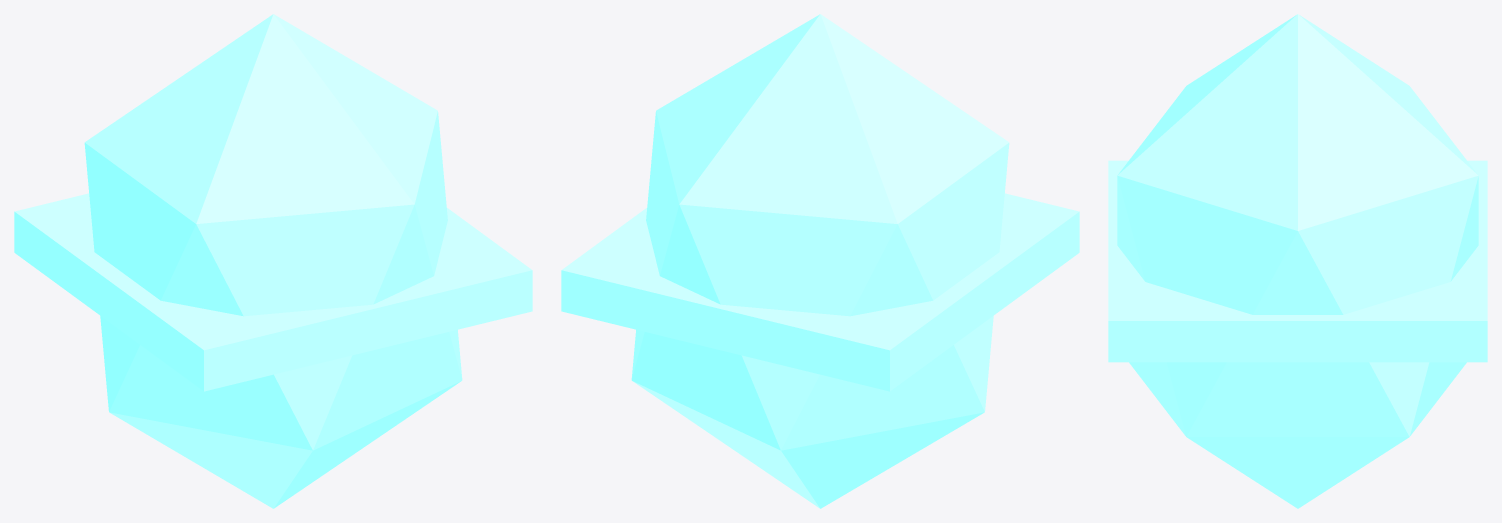
Rendered from gem.glb.
3 views of the same model, side by side, from view 1: azimuth 30°, elevation 25°; view 2: azimuth 150°, elevation 25°; view 3: azimuth 270°, elevation 25° (orthographic).
Parts seen in each view (by area): view 1: Gem; view 2: Gem; view 3: Gem.
Part boxes in pixels (<box>): Gem: <box>14,14,532,508</box>; Gem: <box>561,14,1079,508</box>; Gem: <box>1108,14,1487,508</box>.
Size of the model in its own units: 0.5009 by 0.72 by 0.5.
